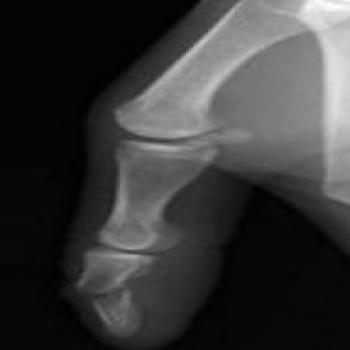Fracture: (66, 273, 156, 310)
